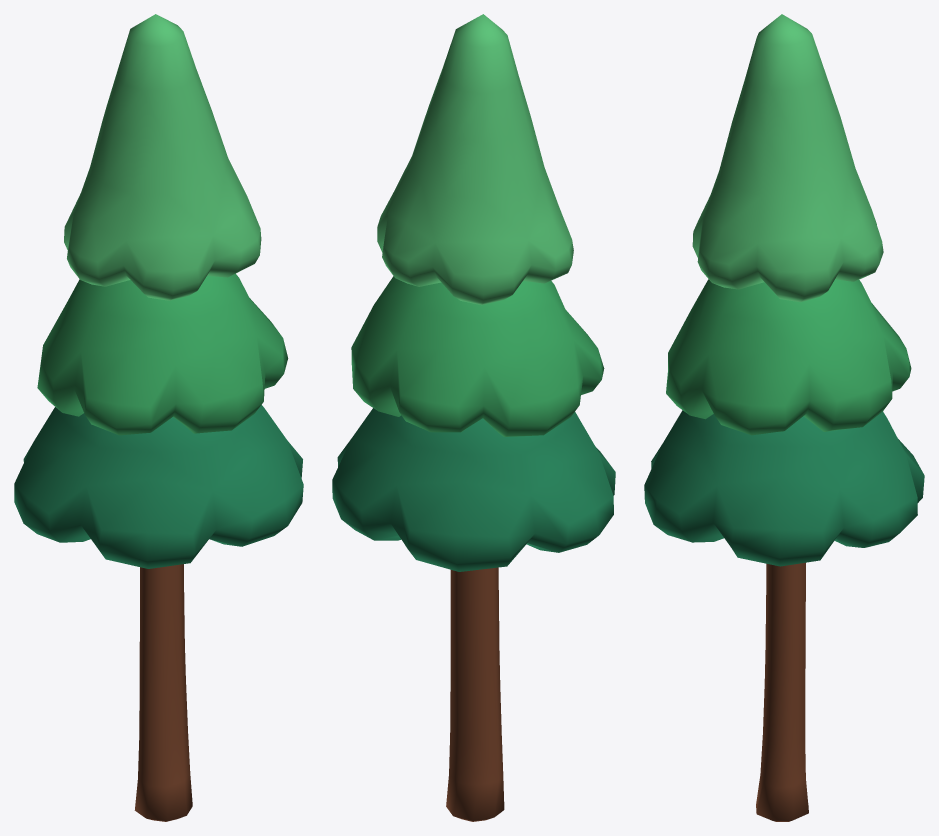
The model's file is Conifer_04_LOD2.gltf.
3 renders of one model, left to right at view 1: azimuth 30°, elevation 25°; view 2: azimuth 150°, elevation 25°; view 3: azimuth 270°, elevation 25°, orthographic.
Parts seen in each view (by area): view 1: Conifer_04_LOD2_Cylinder.609; view 2: Conifer_04_LOD2_Cylinder.609; view 3: Conifer_04_LOD2_Cylinder.609.
Boxes of the visible parts, x1=… form: Conifer_04_LOD2_Cylinder.609: x1=14, y1=14, x2=303, y2=821; Conifer_04_LOD2_Cylinder.609: x1=332, y1=14, x2=615, y2=821; Conifer_04_LOD2_Cylinder.609: x1=644, y1=14, x2=924, y2=821.
Size of the model in its own units: 5.97 by 18.02 by 5.74.
1 material, 1 textured.
